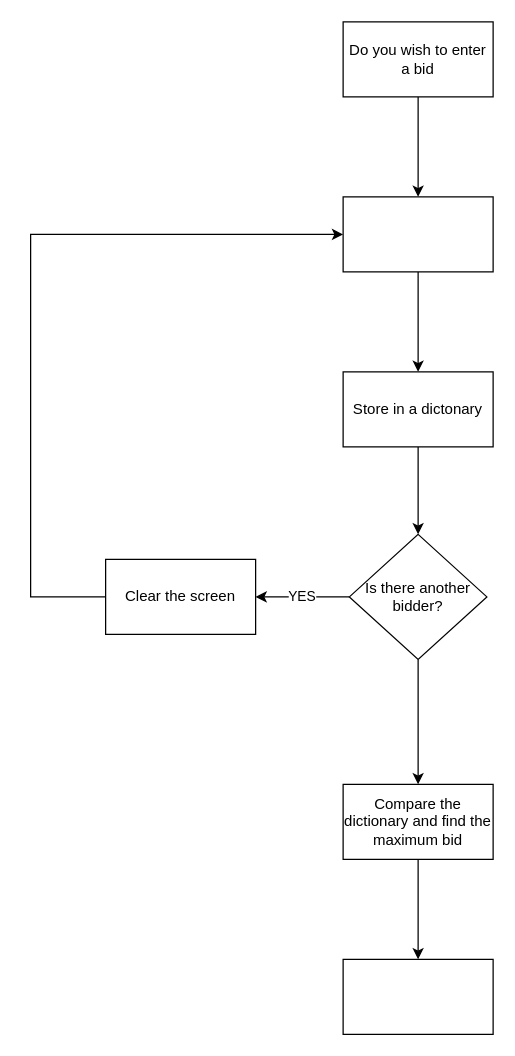
This 515x1056 diagram has some shape labels left out. Each missing label, with the centre of its shape:
"Enter name and bid" goes at (x=417, y=234).
"print the name of the maximum bidder and their bid" goes at (x=417, y=996).
